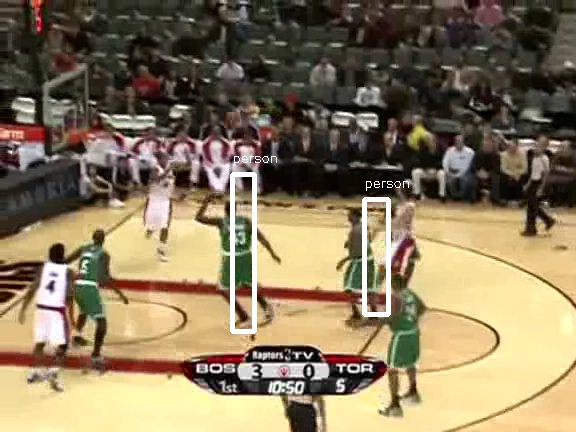person: (346, 218, 380, 299), (345, 218, 379, 299), (347, 218, 381, 299), (346, 217, 380, 298), (346, 219, 380, 300)
target_negative: (93, 146, 512, 394), (134, 111, 447, 252), (40, 7, 234, 141), (16, 2, 150, 117), (480, 148, 545, 302), (22, 279, 43, 348)
